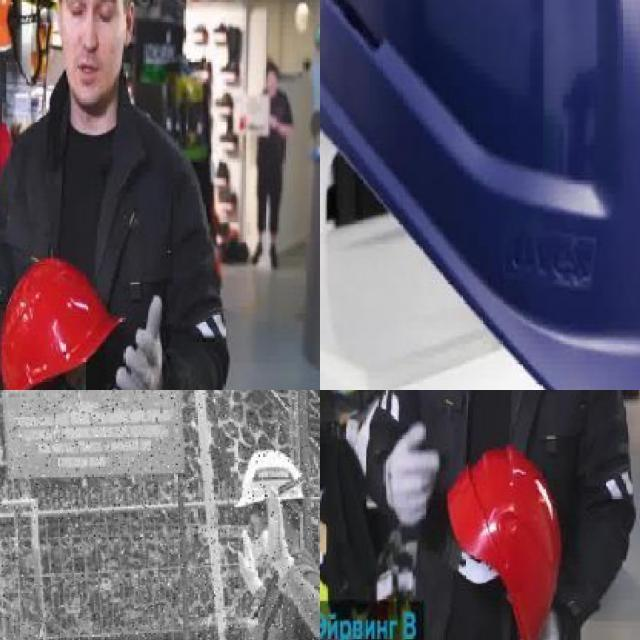apron: (385, 417, 442, 528), (109, 293, 162, 390), (258, 486, 296, 580), (232, 526, 264, 598), (507, 610, 560, 640)
